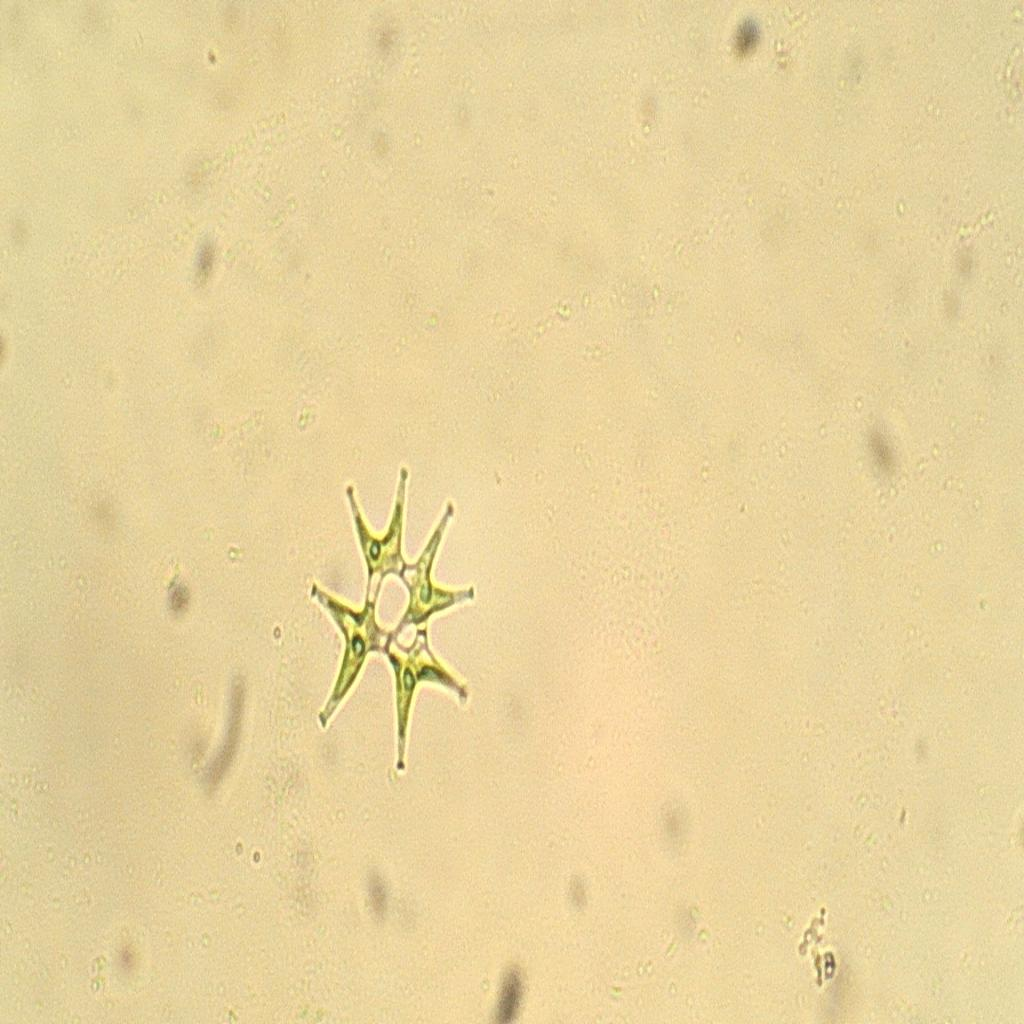Pediastrum_CF: (277, 428, 510, 821)
